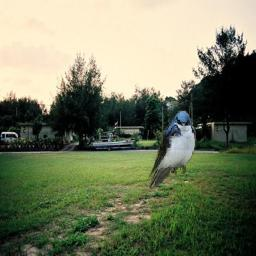Swallow: (148, 110, 197, 189)
